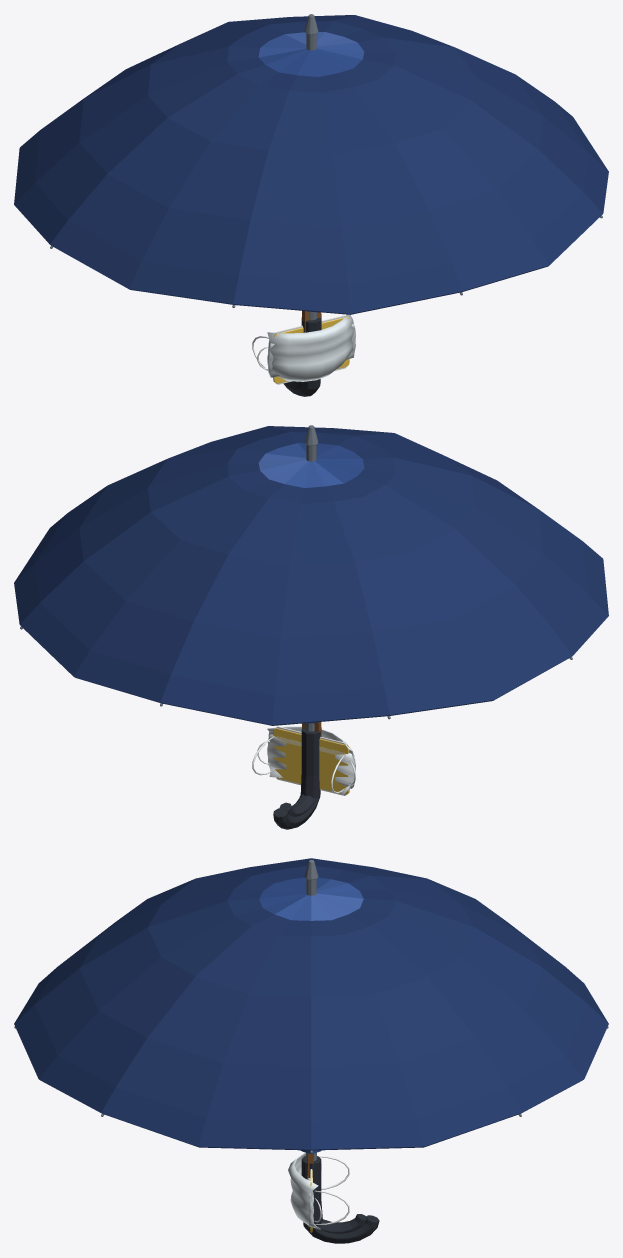
File: items.glb
3 renders of one model, top to bottom at view 1: azimuth 30°, elevation 25°; view 2: azimuth 150°, elevation 25°; view 3: azimuth 270°, elevation 25°, orthographic.
Parts seen in each view (by area): view 1: ITM09_UmbrellaOpen, ITM06_Mask; view 2: ITM09_UmbrellaOpen, ITM04_Card, ITM06_MaskFolded, ITM06_Mask; view 3: ITM09_UmbrellaOpen, ITM06_Mask, ITM09_Umbrella.
Part boxes in pixels (<box>): ITM09_UmbrellaOpen: <box>14,14,608,396</box>; ITM06_Mask: <box>252,314,355,381</box>; ITM09_UmbrellaOpen: <box>14,425,608,829</box>; ITM04_Card: <box>273,728,349,794</box>; ITM06_MaskFolded: <box>257,734,355,788</box>; ITM06_Mask: <box>252,726,355,794</box>; ITM09_UmbrellaOpen: <box>14,858,608,1243</box>; ITM06_Mask: <box>288,1152,349,1229</box>; ITM09_Umbrella: <box>300,1150,366,1233</box>.
Bounding box in the file's own units: 0.5819 × 0.4127 × 0.5819.
